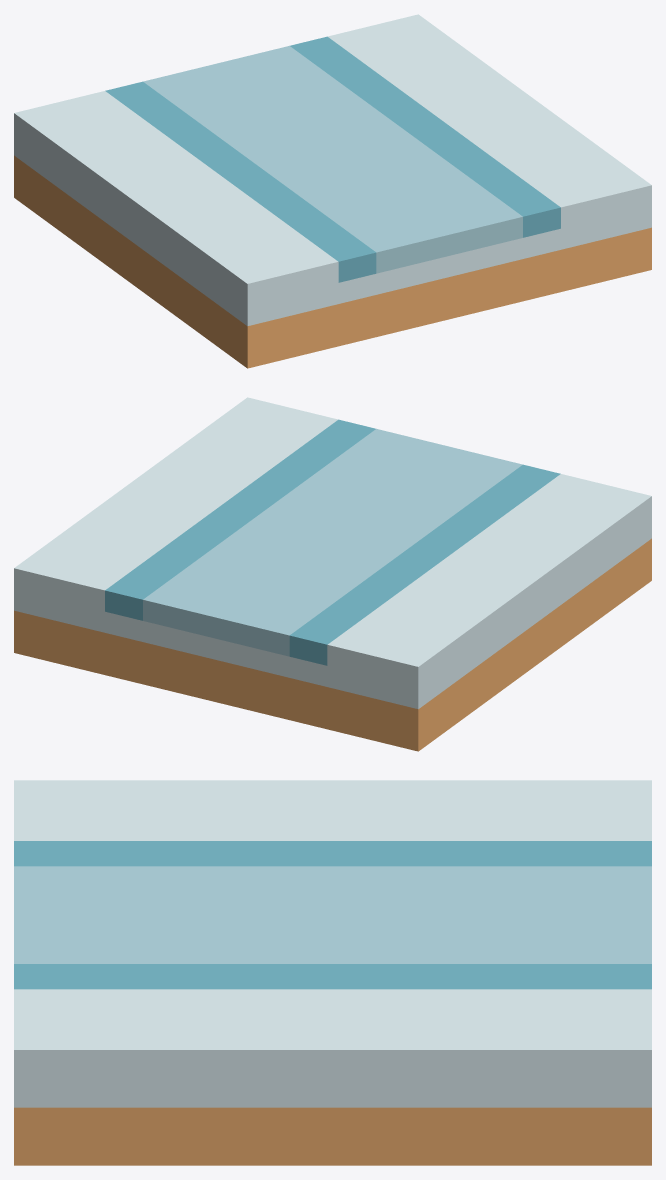
Rendered from snow_tile_straight(+).fbx.
3 renders of one model, top to bottom at view 1: azimuth 30°, elevation 25°; view 2: azimuth 150°, elevation 25°; view 3: azimuth 270°, elevation 25°, orthographic. The views are drawn at different scales.
Visible parts, largest first — view 1: Mesh_3; view 2: Mesh_3; view 3: Mesh_3.
Boxes of the visible parts, x1=… form: Mesh_3: x1=14, y1=14, x2=651, y2=368; Mesh_3: x1=14, y1=397, x2=651, y2=751; Mesh_3: x1=14, y1=780, x2=651, y2=1165.
Bounding box in the file's own units: 100 × 20 × 100.
